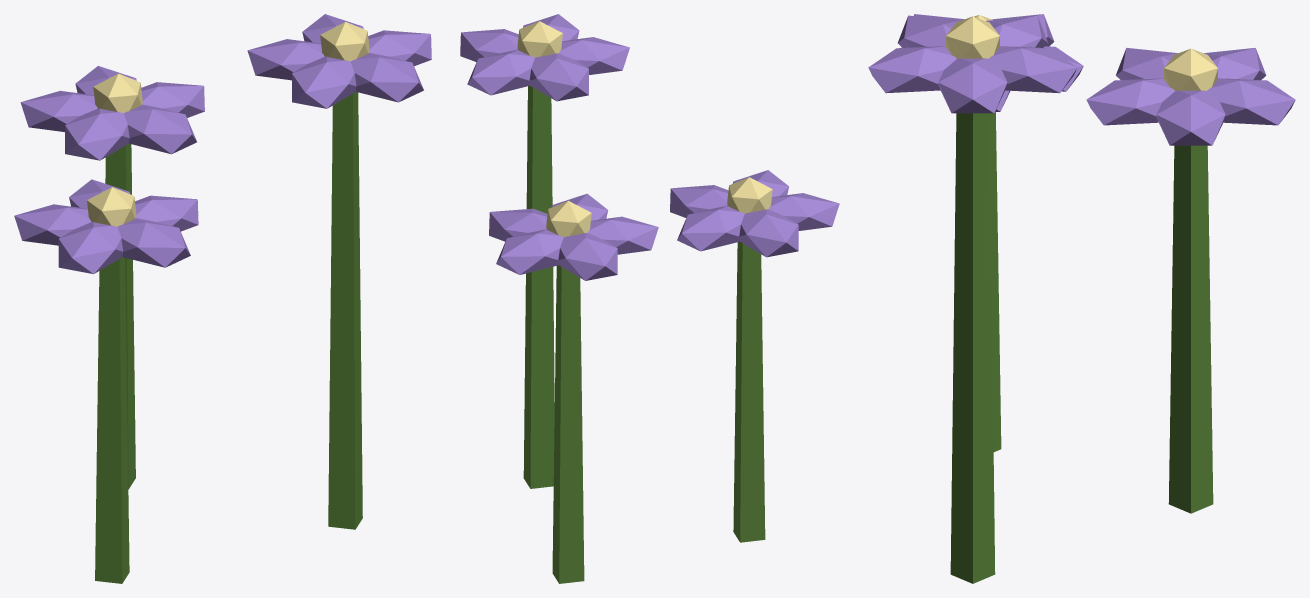
File: wildflower_2.glb
3 renders of one model, left to right at view 1: azimuth 30°, elevation 25°; view 2: azimuth 150°, elevation 25°; view 3: azimuth 270°, elevation 25°, orthographic. The views are drawn at different scales.
Parts seen in each view (by area): view 1: wildflower_2; view 2: wildflower_2; view 3: wildflower_2.
Boxes of the visible parts, x1=… form: wildflower_2: x1=14, y1=14, x2=431, y2=583; wildflower_2: x1=460, y1=14, x2=839, y2=583; wildflower_2: x1=868, y1=14, x2=1295, y2=583.
Size of the model in its own units: 0.157 by 0.1937 by 0.1344.
